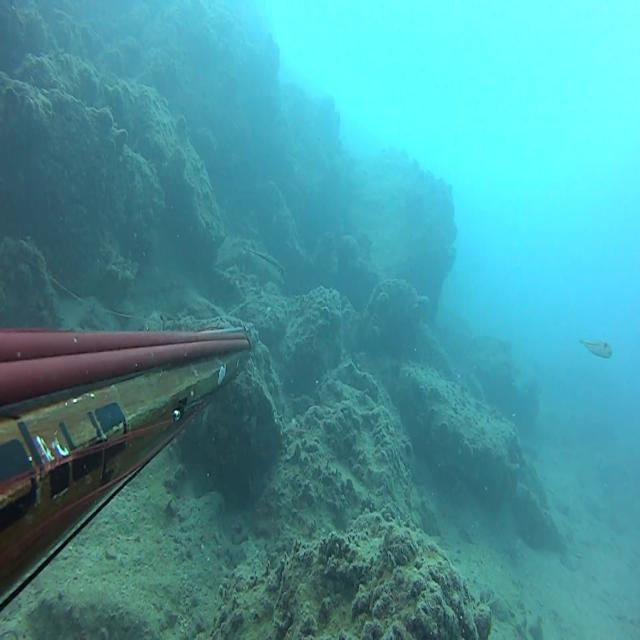Balon Baligi: (242, 246, 285, 284), (579, 338, 613, 358)
